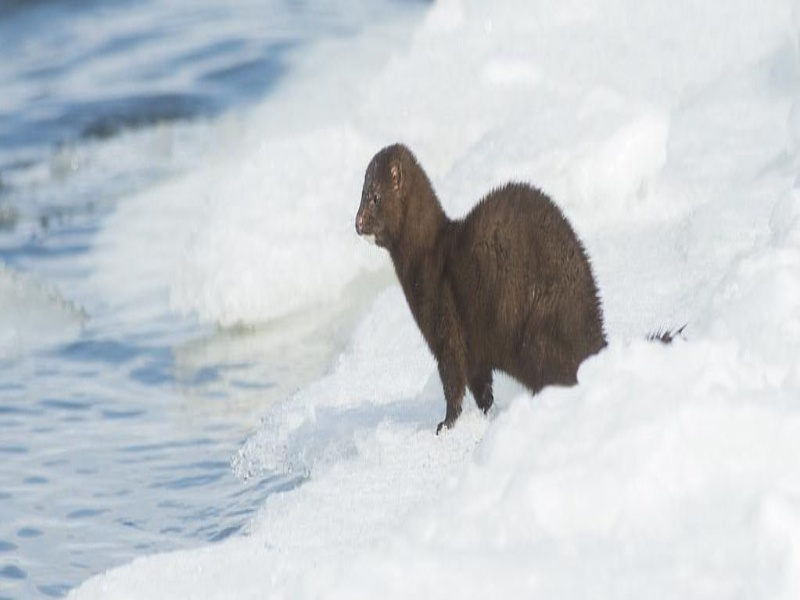minkish: (350, 139, 609, 437)
